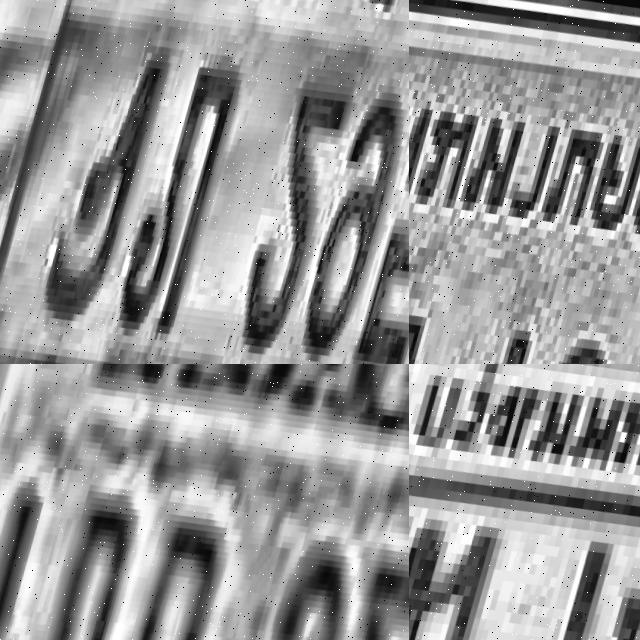license-plate: (0, 0, 409, 364), (0, 364, 409, 640), (409, 0, 640, 364), (409, 364, 640, 640)
